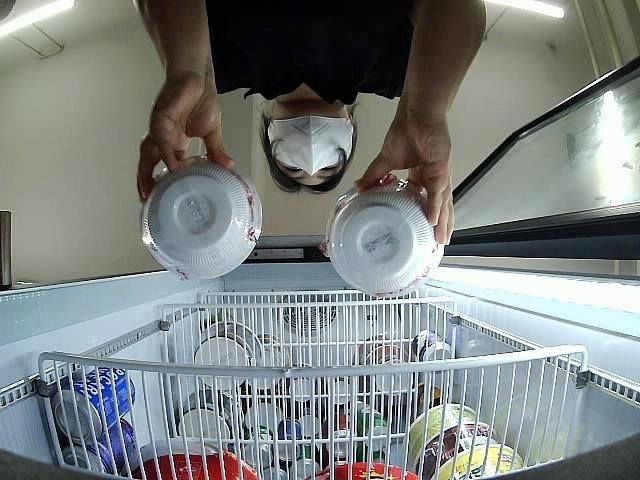09_yukGaeJang: (138, 153, 263, 282), (324, 178, 444, 299)
